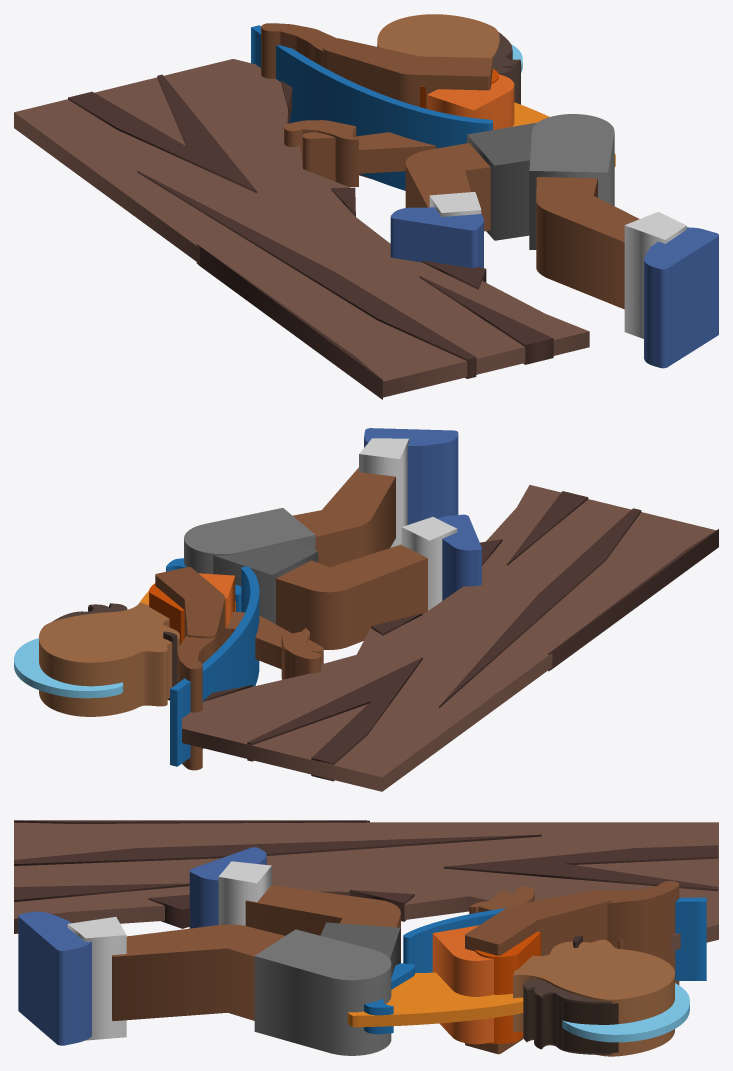
The model's file is emoji_u1f9d7_1f3fe.glb.
The picture shows the model from 3 angles, top to bottom: view 1: azimuth 30°, elevation 25°; view 2: azimuth 150°, elevation 25°; view 3: azimuth 270°, elevation 25°; orthographic projection. The views are drawn at different scales.
Parts seen in each view (by area): view 1: emoji_u1f9d7_1f3fe; view 2: emoji_u1f9d7_1f3fe; view 3: emoji_u1f9d7_1f3fe.
Boxes of the visible parts, <box> form: emoji_u1f9d7_1f3fe: <box>14,14,718,399</box>; emoji_u1f9d7_1f3fe: <box>14,428,718,791</box>; emoji_u1f9d7_1f3fe: <box>14,820,718,1056</box>.
Size of the model in its own units: 0.0237 by 0.0058 by 0.0338.
